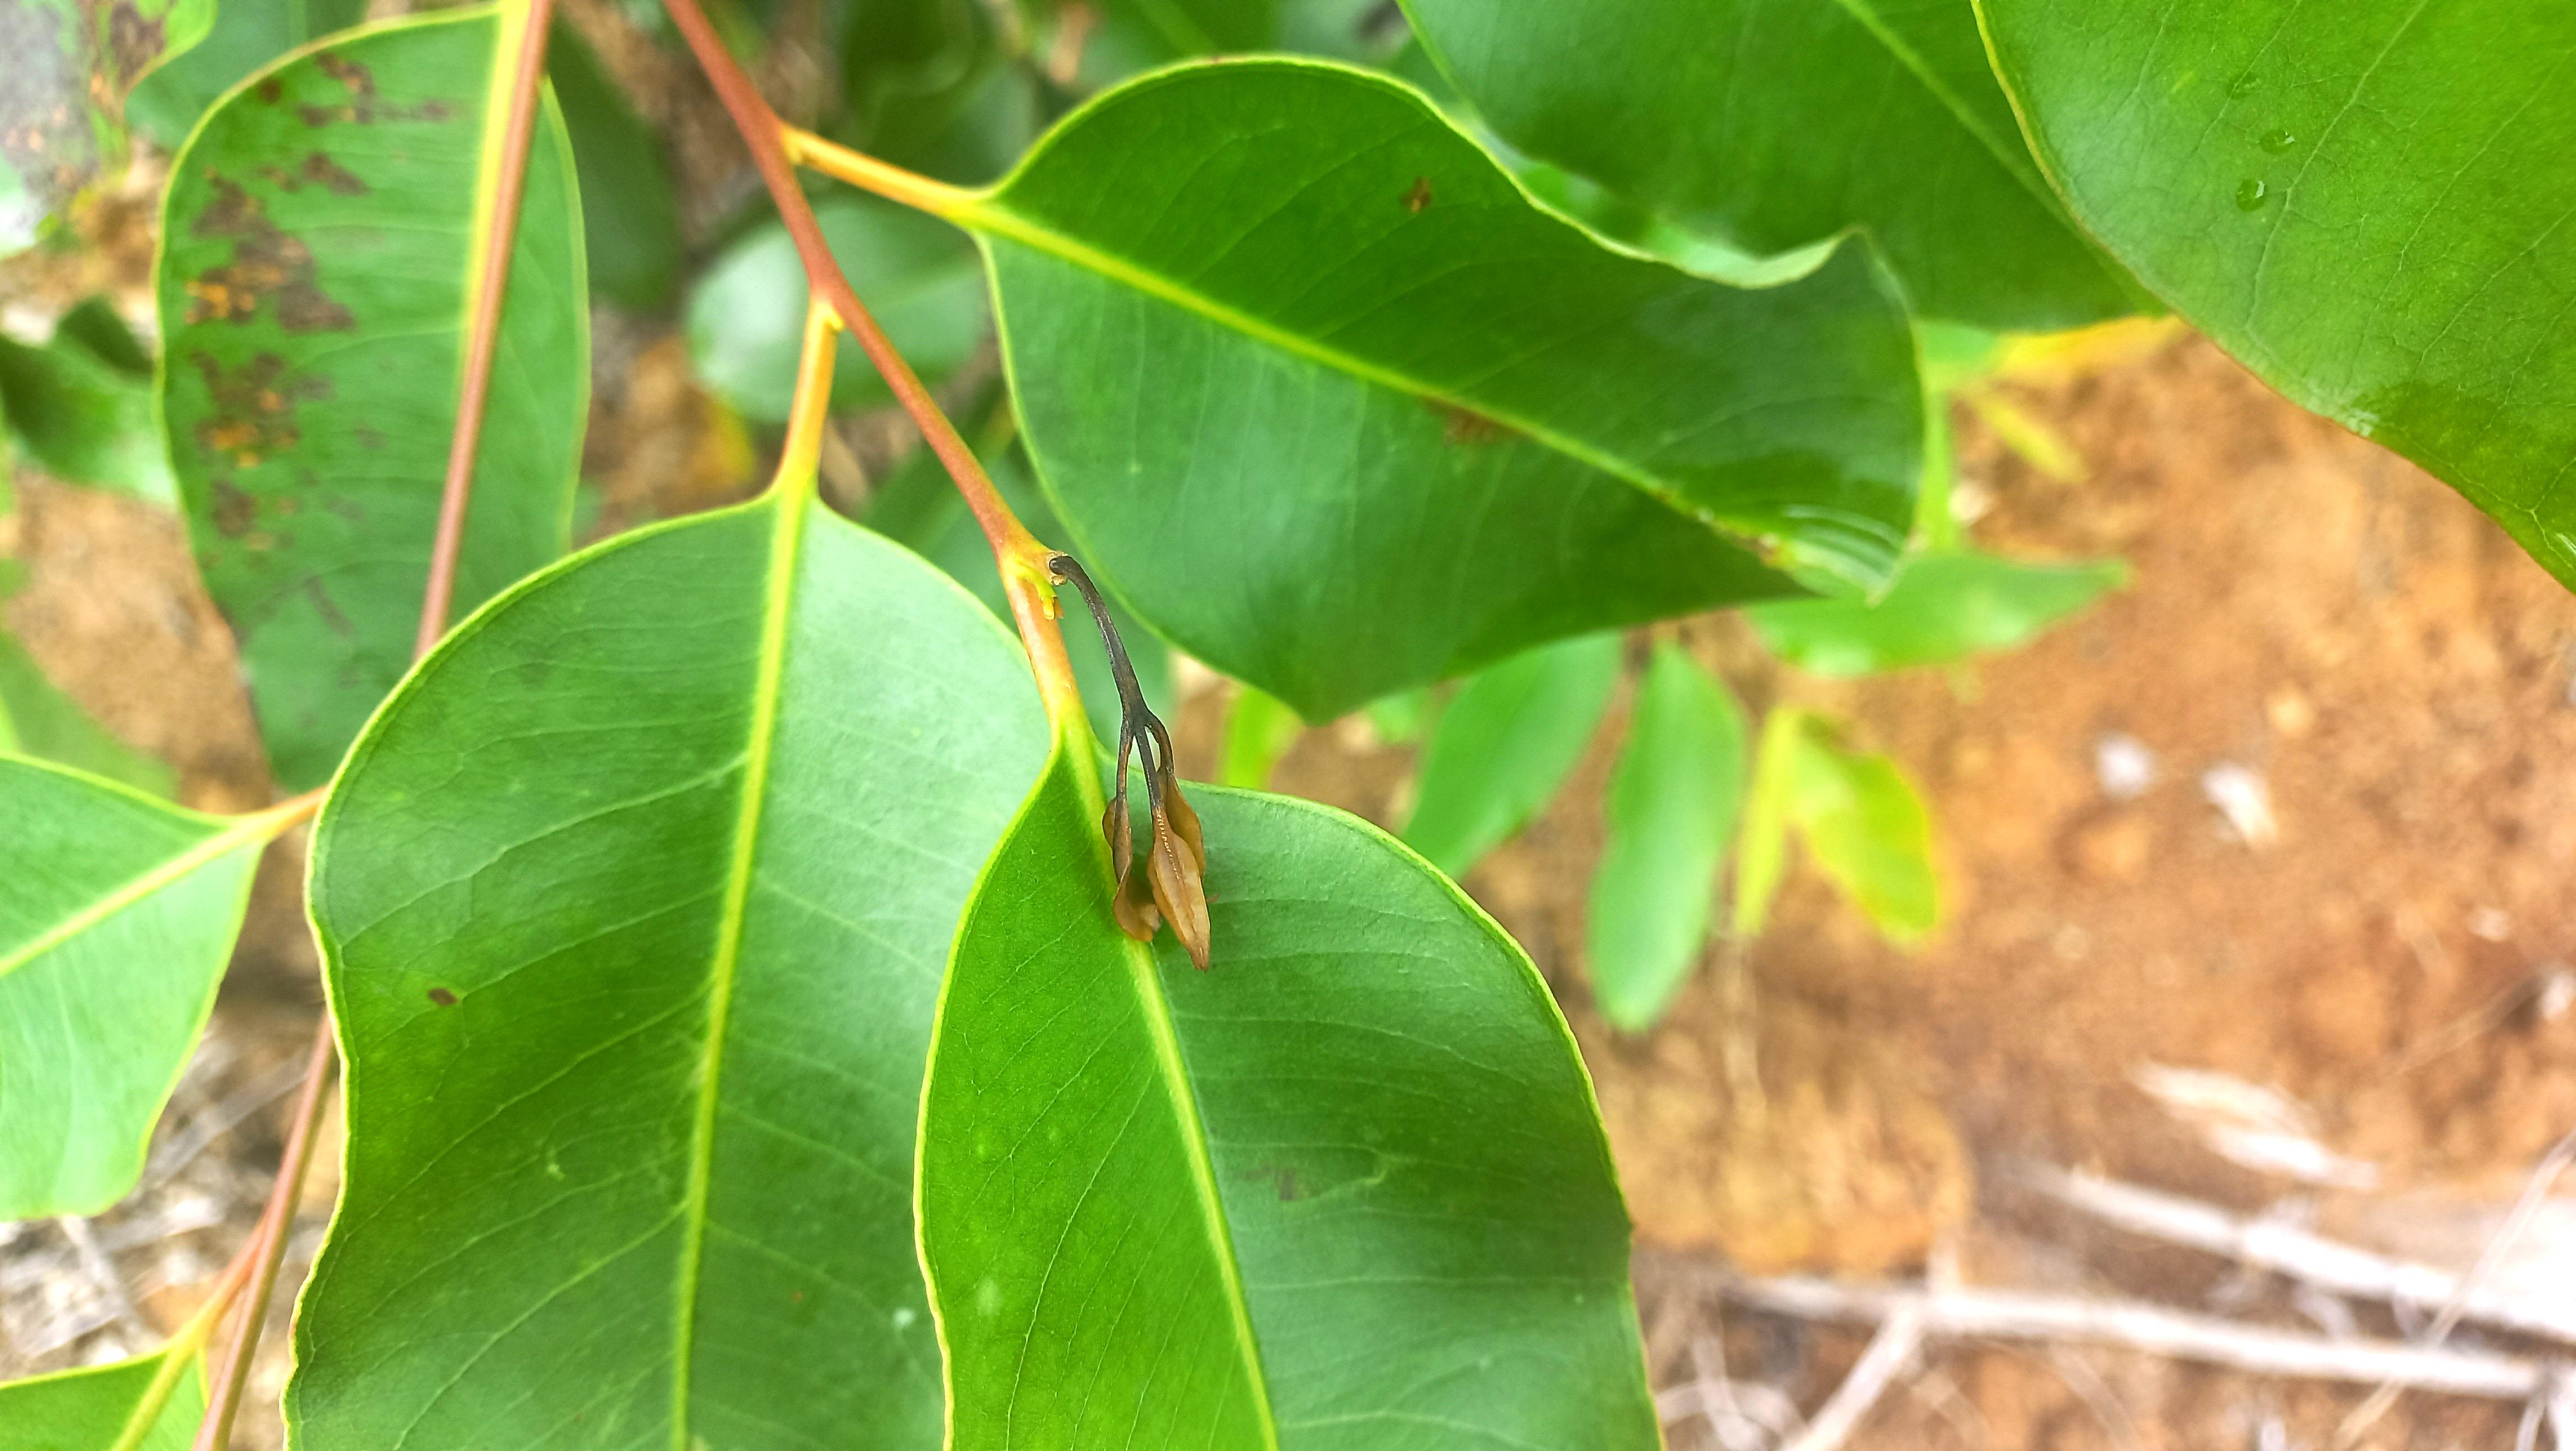Helopeltis-Withered Sprout: (1056, 561, 1231, 980)
